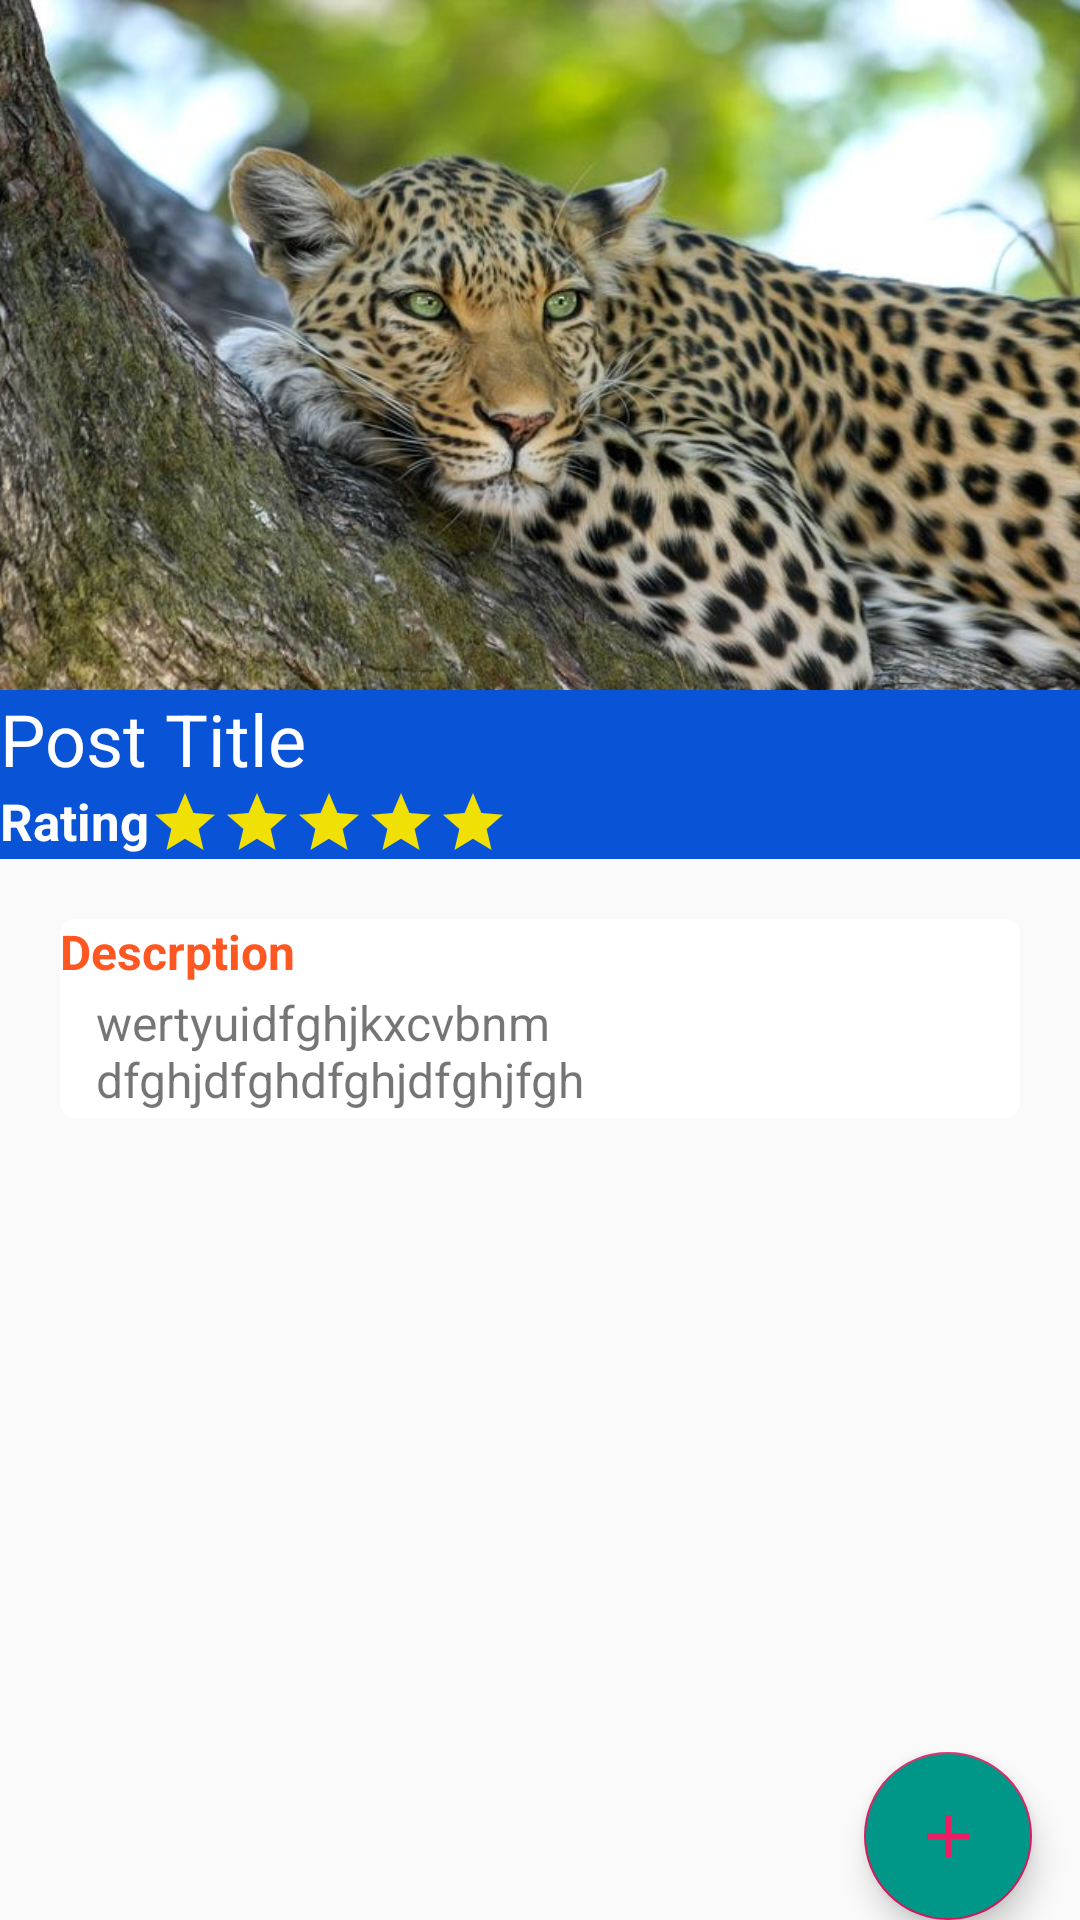

Locate icon controls on the screen. Image size 1080 × 1920, boxes as (x1, y1, x2, y2).
addition: (864, 1752, 1032, 1920)
star: (155, 793, 215, 850), (227, 793, 287, 850), (299, 793, 359, 850), (371, 793, 431, 850), (443, 793, 503, 850)
